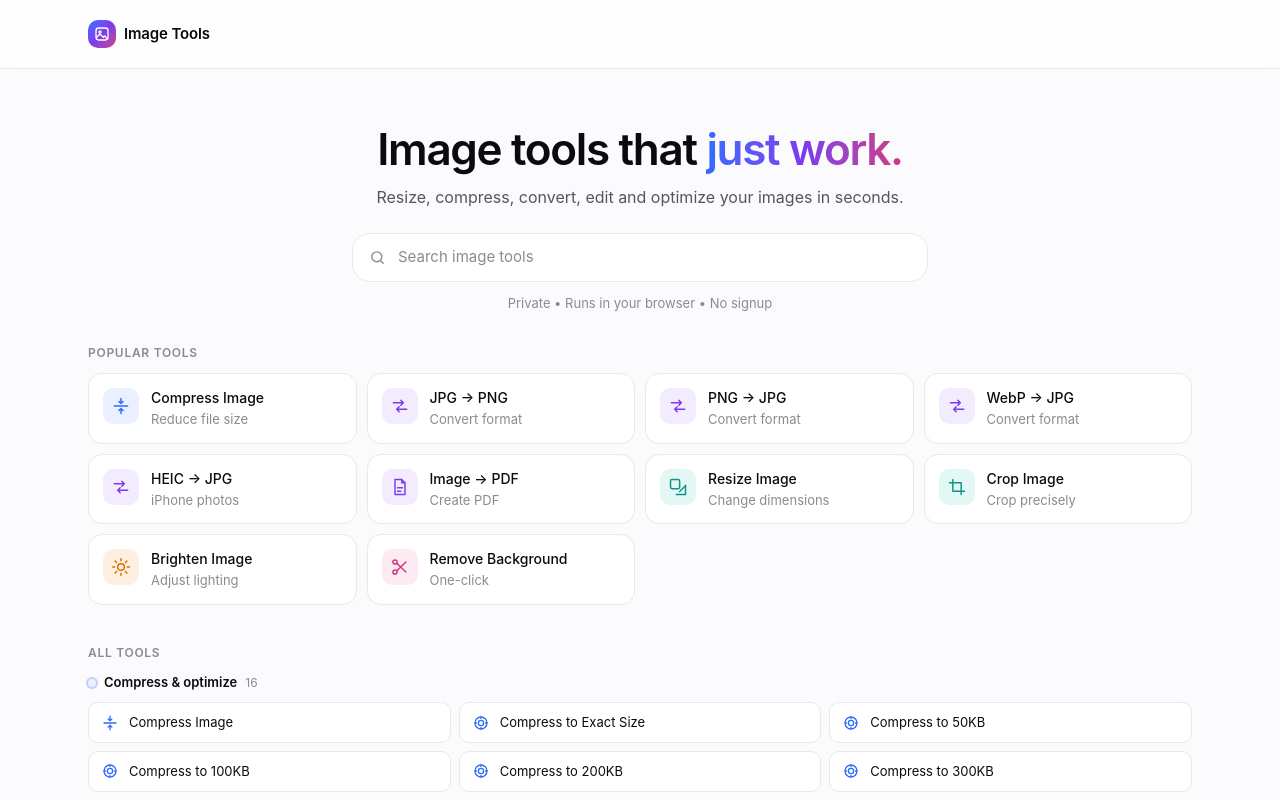
Test: tool search › a query with no matches says so instead of showing noise
Type "qzxwv" into the dropdown at (654, 258), box [398,246,911,269]
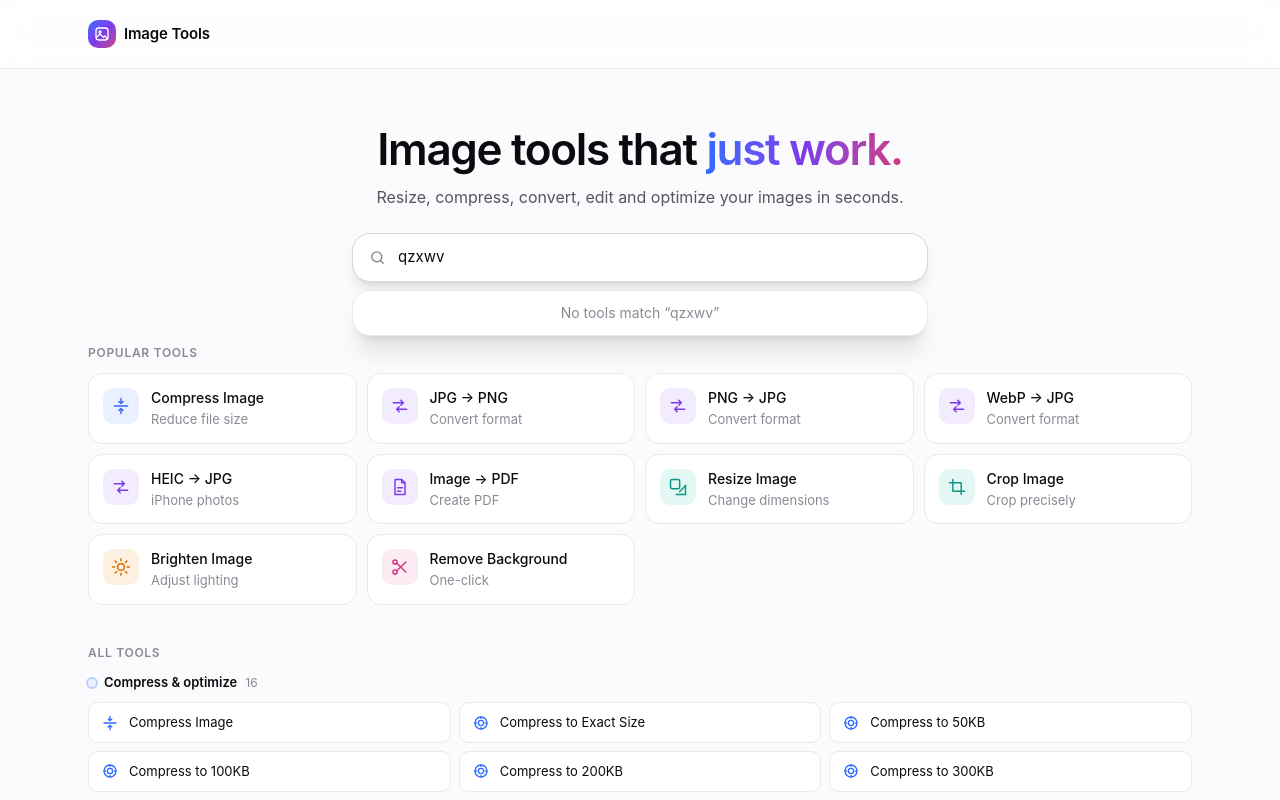
Expected: the text "No tools match “qzxwv”" is shown, [561,304,719,321]
